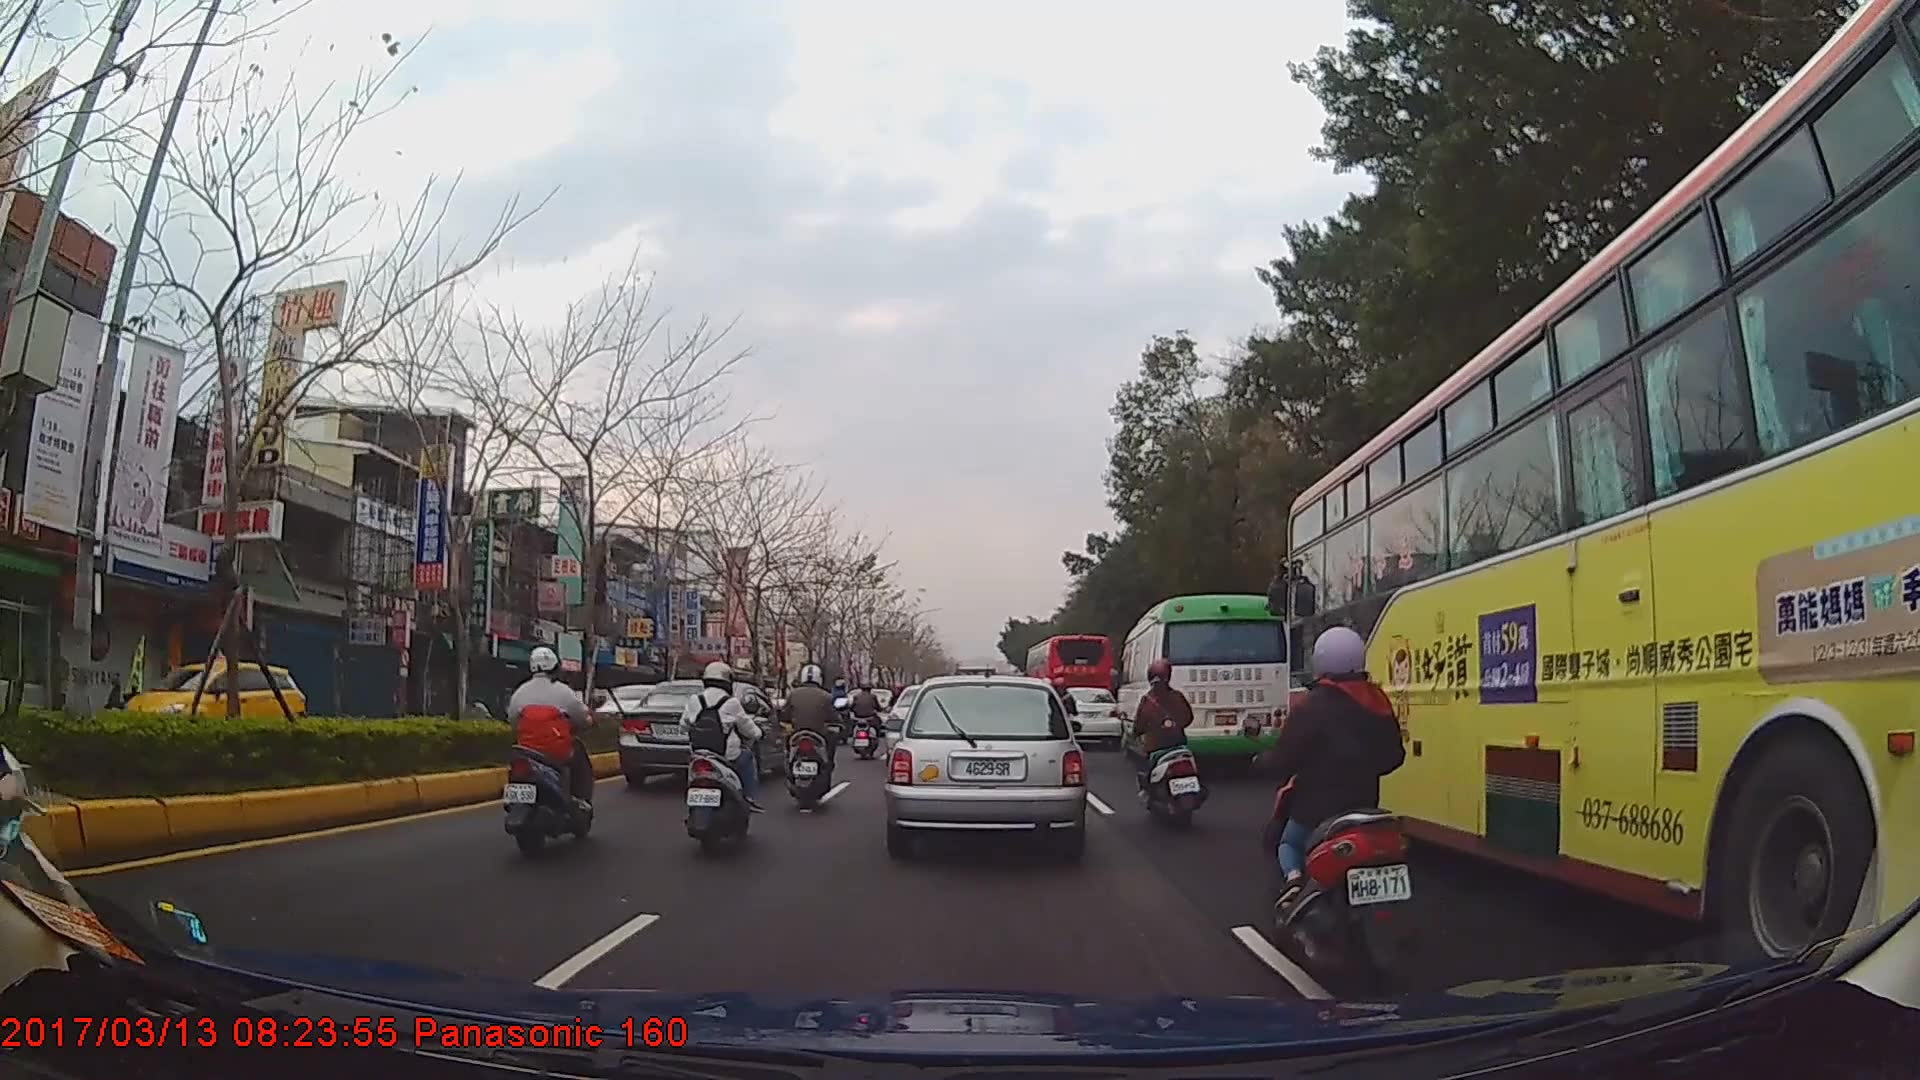rider: (1273, 619, 1418, 1000), (500, 645, 596, 861), (677, 660, 759, 859), (1128, 659, 1204, 826), (780, 666, 847, 812), (849, 680, 886, 763), (832, 679, 856, 728)
vehicle: (1280, 0, 1920, 1019), (887, 671, 1085, 857), (1116, 592, 1290, 778), (118, 646, 305, 758), (616, 678, 790, 792), (1024, 632, 1112, 742), (1053, 686, 1118, 744)
